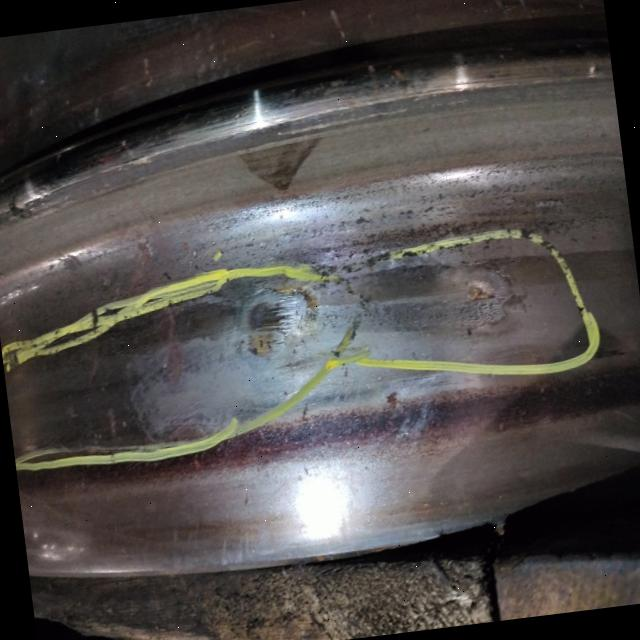flat: (100, 277, 485, 439), (224, 253, 536, 371)
